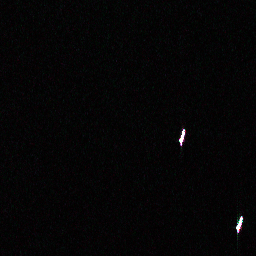ship: (176, 126, 187, 147), (233, 213, 245, 232)
